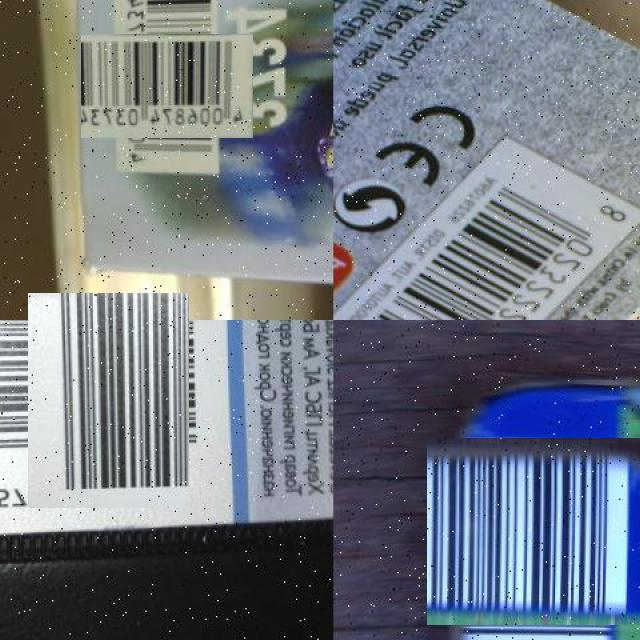Barcode: (333, 133, 640, 320), (434, 430, 638, 632), (14, 306, 202, 495), (98, 17, 236, 156)
